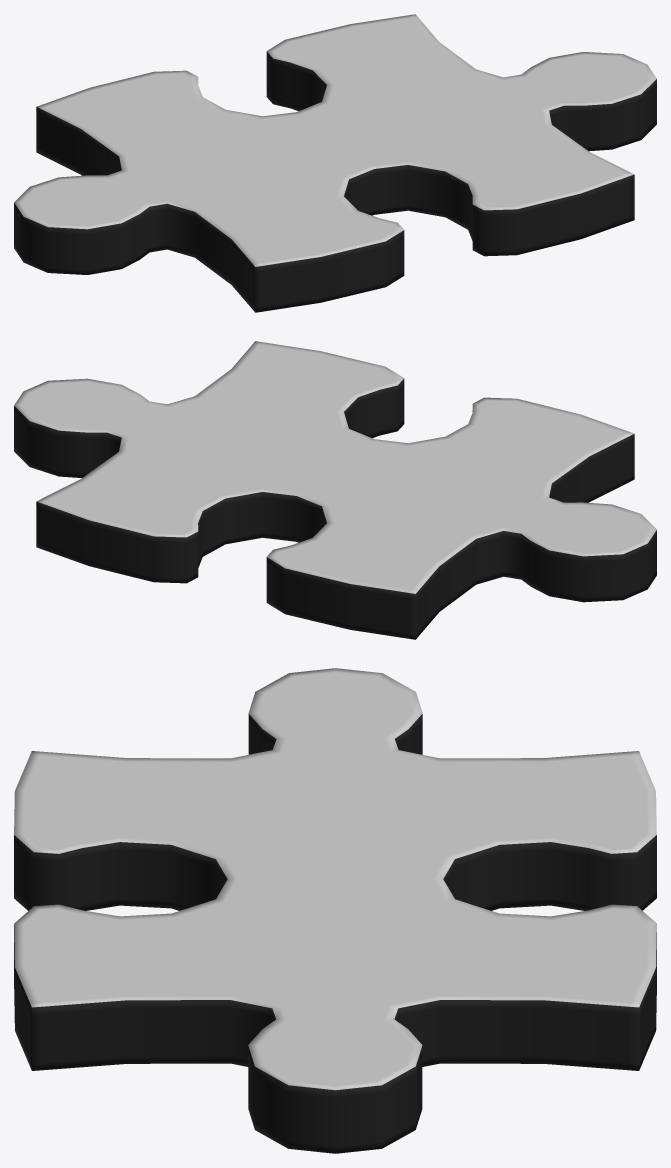
Rendered from puzzle42.fbx.
3 views of the same model, one above another, from view 1: azimuth 30°, elevation 25°; view 2: azimuth 150°, elevation 25°; view 3: azimuth 270°, elevation 25° (orthographic). The views are drawn at different scales.
Visible parts, largest first — view 1: puzzle42; view 2: puzzle42; view 3: puzzle42.
Part boxes in pixels (left/top/right/bottom): puzzle42: left=14, top=14, right=656, bottom=312; puzzle42: left=14, top=341, right=656, bottom=639; puzzle42: left=14, top=668, right=656, bottom=1153.
Size of the model in its own units: 4.9 by 0.344 by 3.15.
